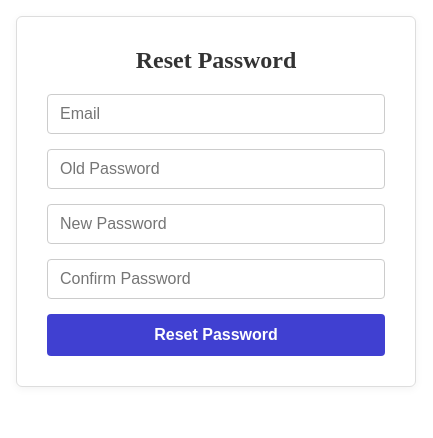
Scenario: ResetPassword Component › shows an error and does not submit when passwords do not match
Type "user@example.com" into the field labelled "Email" at (216, 114), box [47,94,385,134]
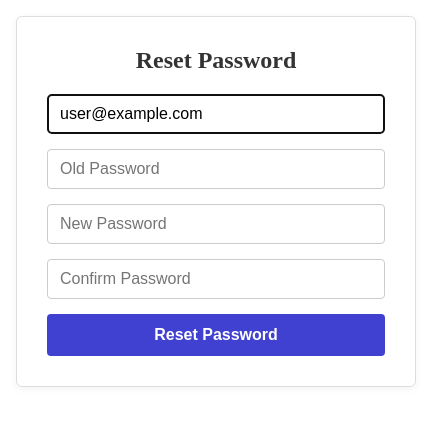
Type "old-password" into the password field labelled "Old Password" at (216, 169), box [47,149,385,189]
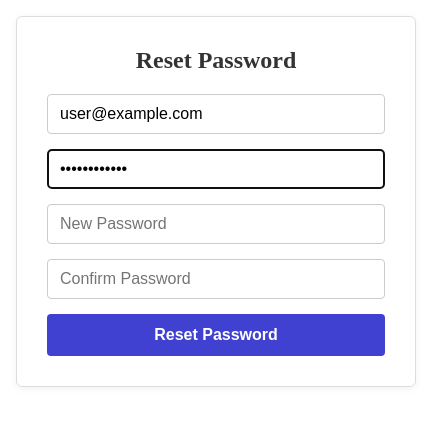
Type "new-password" into the password field labelled "New Password" at (216, 224), box [47,204,385,244]
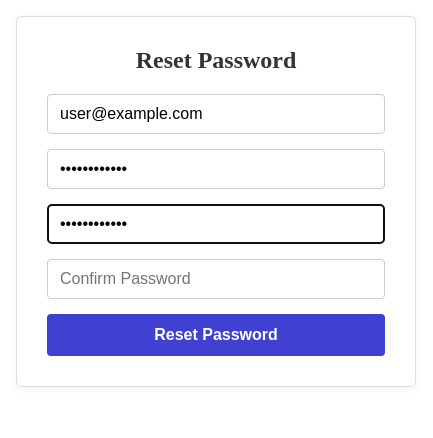
Type "different-password" into the password field labelled "Confirm Password" at (216, 279), box [47,259,385,299]
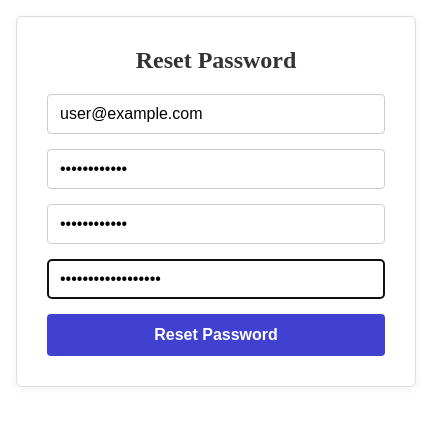
Click the button "Reset Password" at (216, 335), box [47,314,385,356]
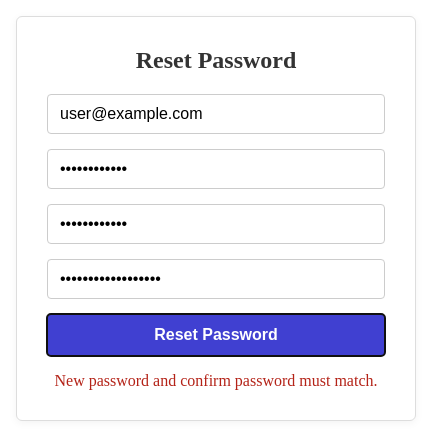
Check: the message shows "must match", box [54,372,378,389]
